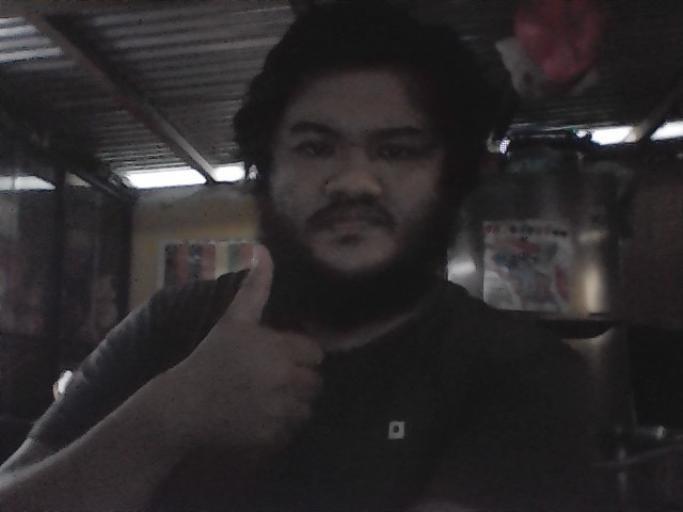like: (175, 241, 327, 459)
